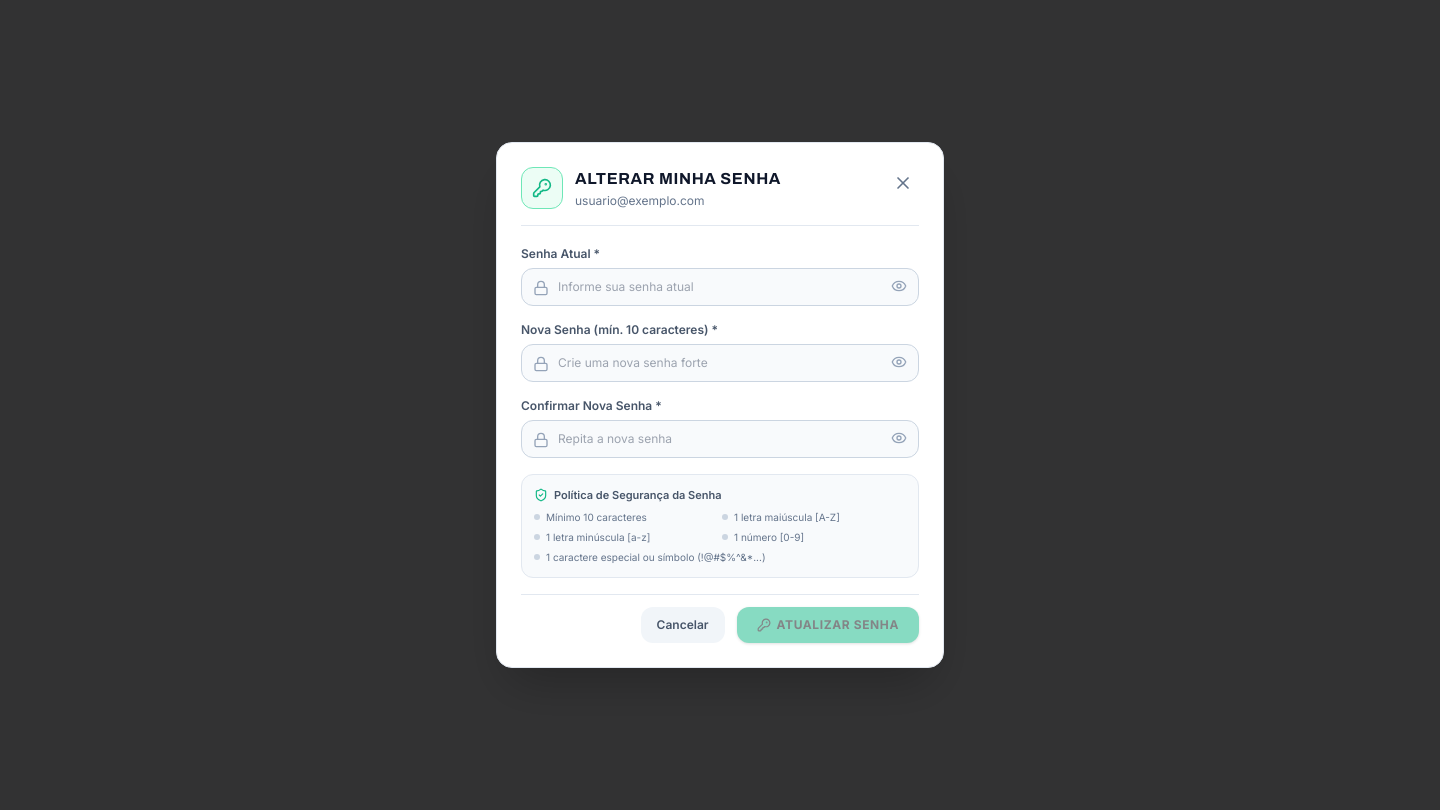
Scenario: ModalAlterarSenha › bloqueia envio se confirmação for divergente
Type "SenhaAtual123!" into the password field with placeholder "Informe sua senha atual" at (720, 287), box [521,268,919,306]
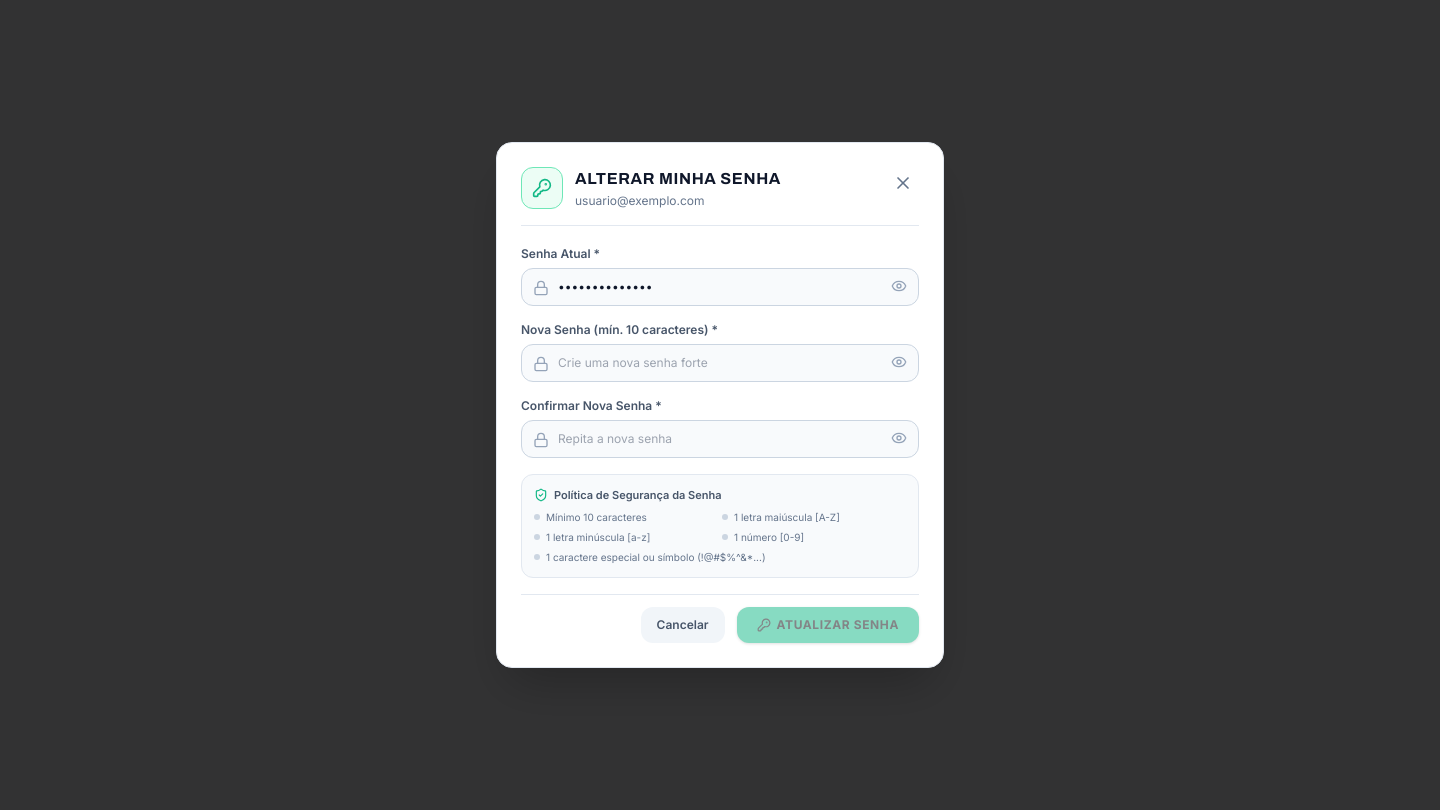
Type "NovaSenhaForte123!" into the password field with placeholder "Crie uma nova senha forte" at (720, 363), box [521,344,919,382]
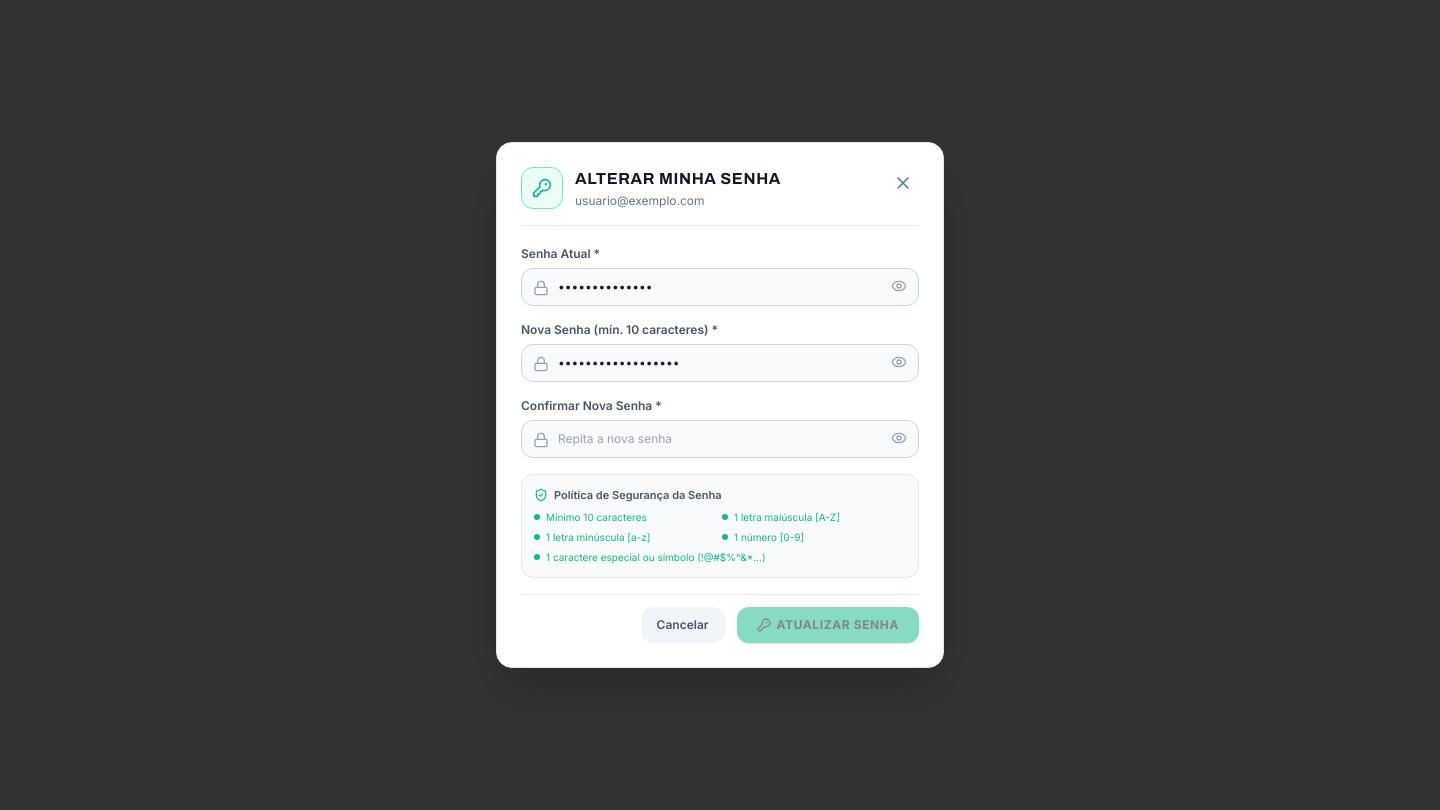
Type "OutraSenha456!" into the password field with placeholder "Repita a nova senha" at (720, 439), box [521,420,919,458]
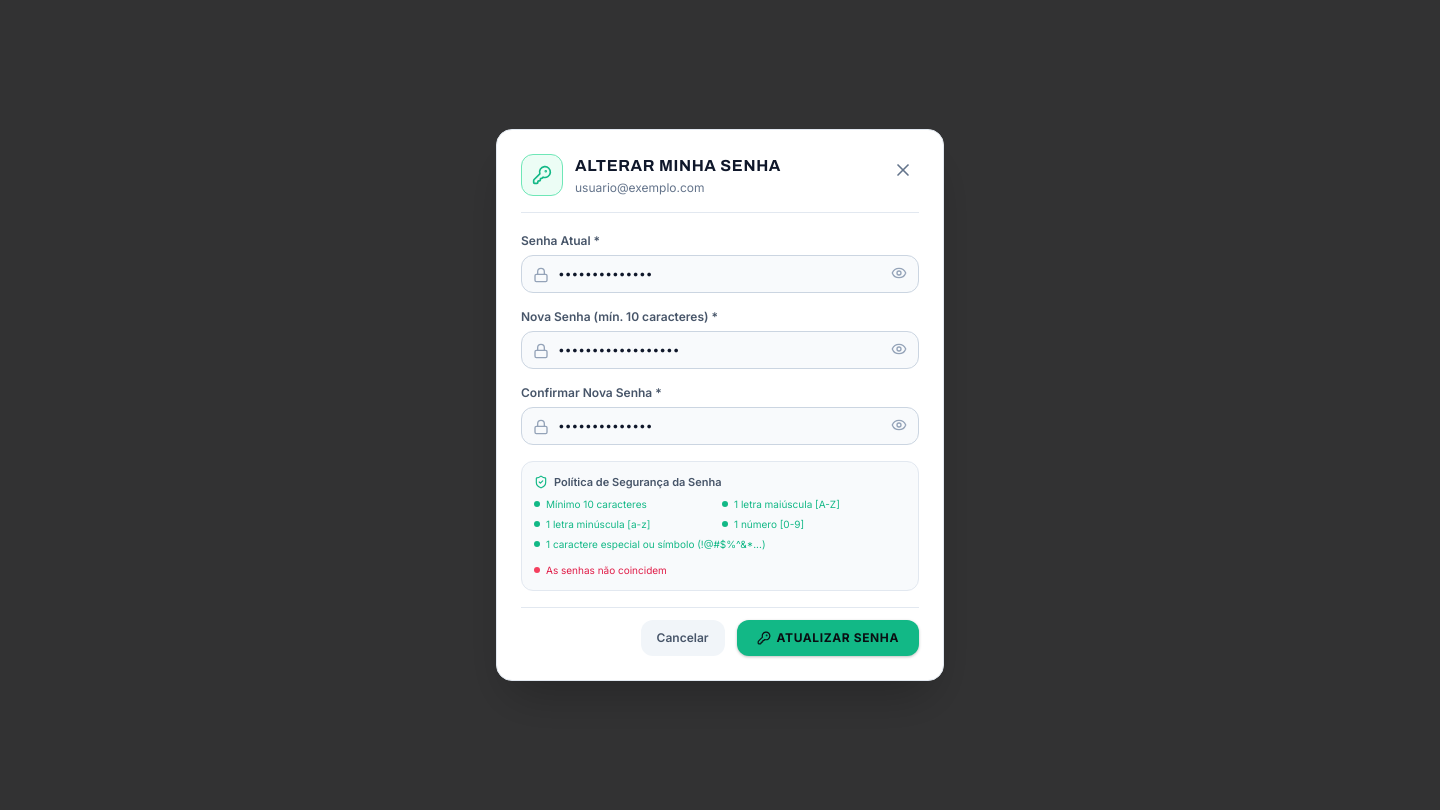
Click the button "Atualizar Senha" at (828, 638), box [737,620,919,656]
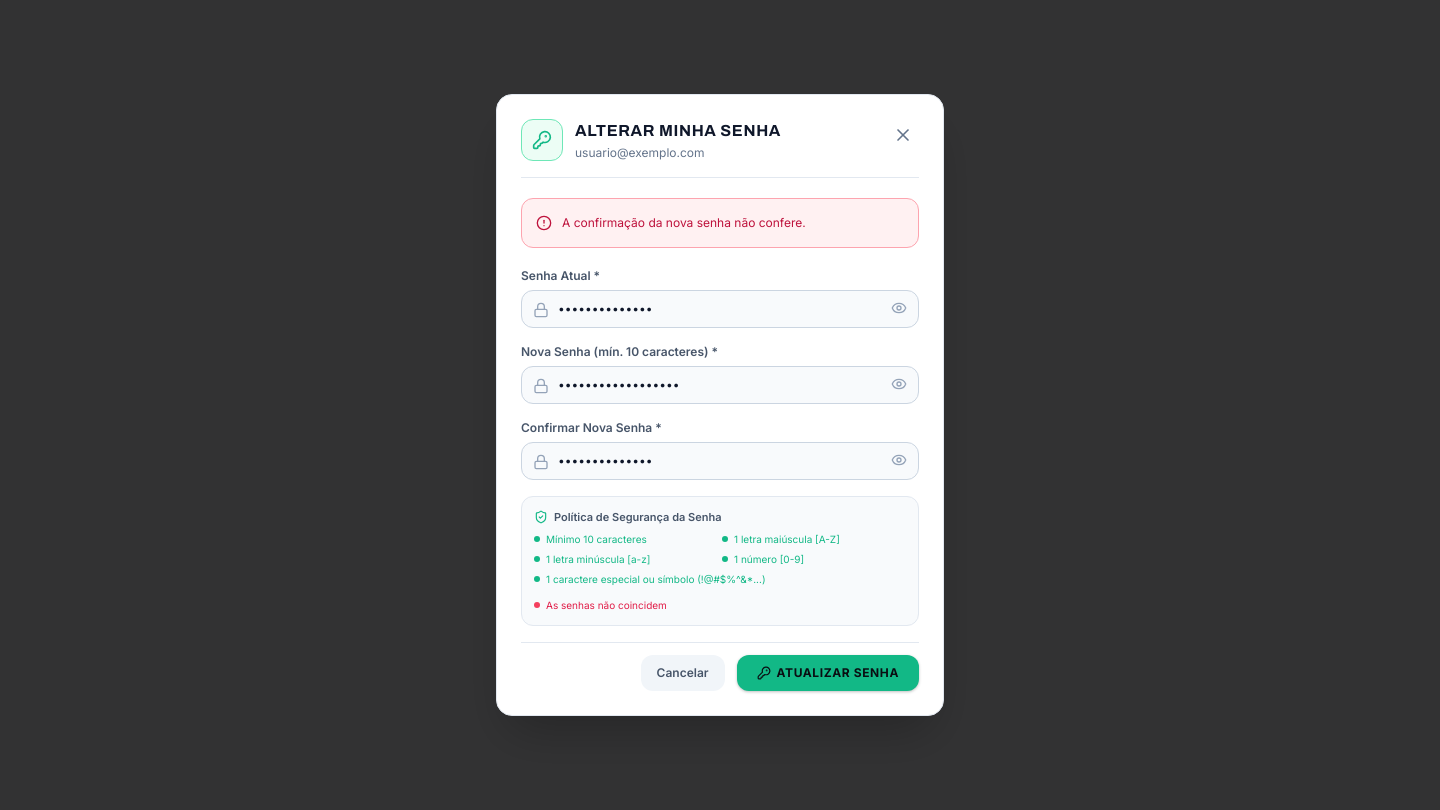
Expected: the text "A confirmação da nova senha não confere." is shown, [562,213,806,233]
